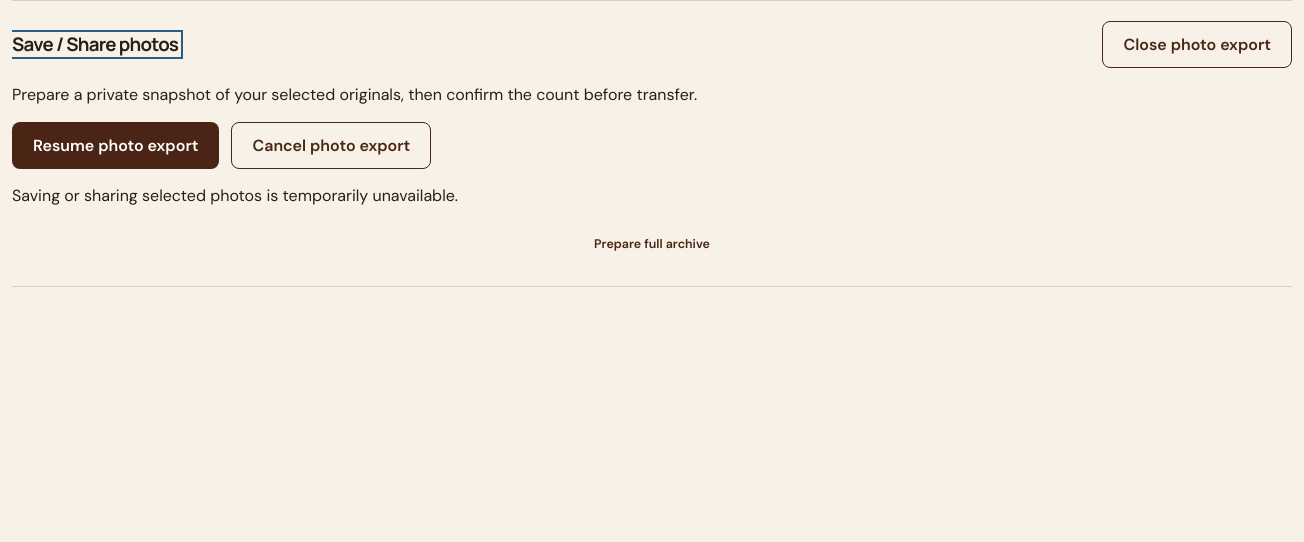
photo export chooser › keeps Resume and Cancel available to a paused library owner, including retirement
Click the button "Resume photo export" at coordinates (116, 145), box 12,122 -> 220,169
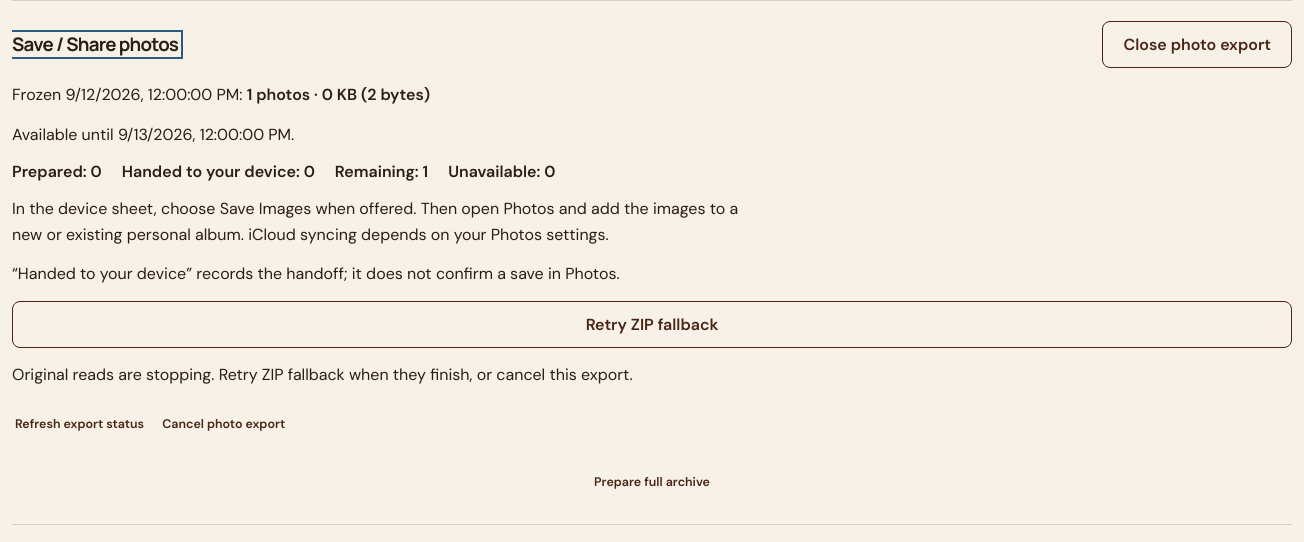
Check: the button "Cancel photo export" is enabled, box 159,402 -> 288,446
Check: the button "Retry ZIP fallback" is enabled, box 12,301 -> 1292,348
